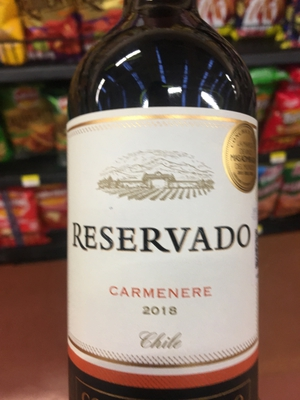reservado carmenere: (66, 8, 256, 400)
